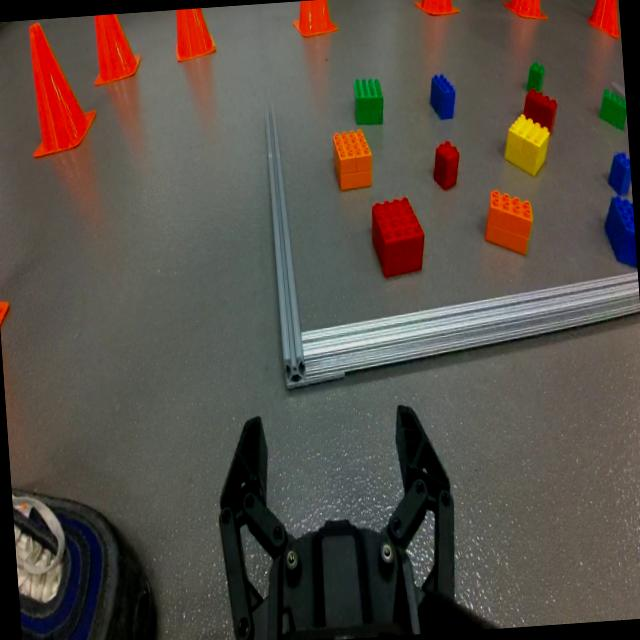block: (504, 114, 549, 176)
blue: (426, 72, 458, 122), (607, 152, 630, 196)
cone: (22, 15, 99, 168), (87, 12, 146, 94), (584, 0, 621, 42)
green: (352, 75, 386, 128), (598, 87, 626, 131), (526, 61, 544, 89)
metal barrier: (263, 94, 640, 390)
orange: (480, 184, 536, 262), (332, 129, 374, 191)
red goal: (368, 200, 428, 282), (429, 138, 462, 192), (524, 89, 557, 130)
